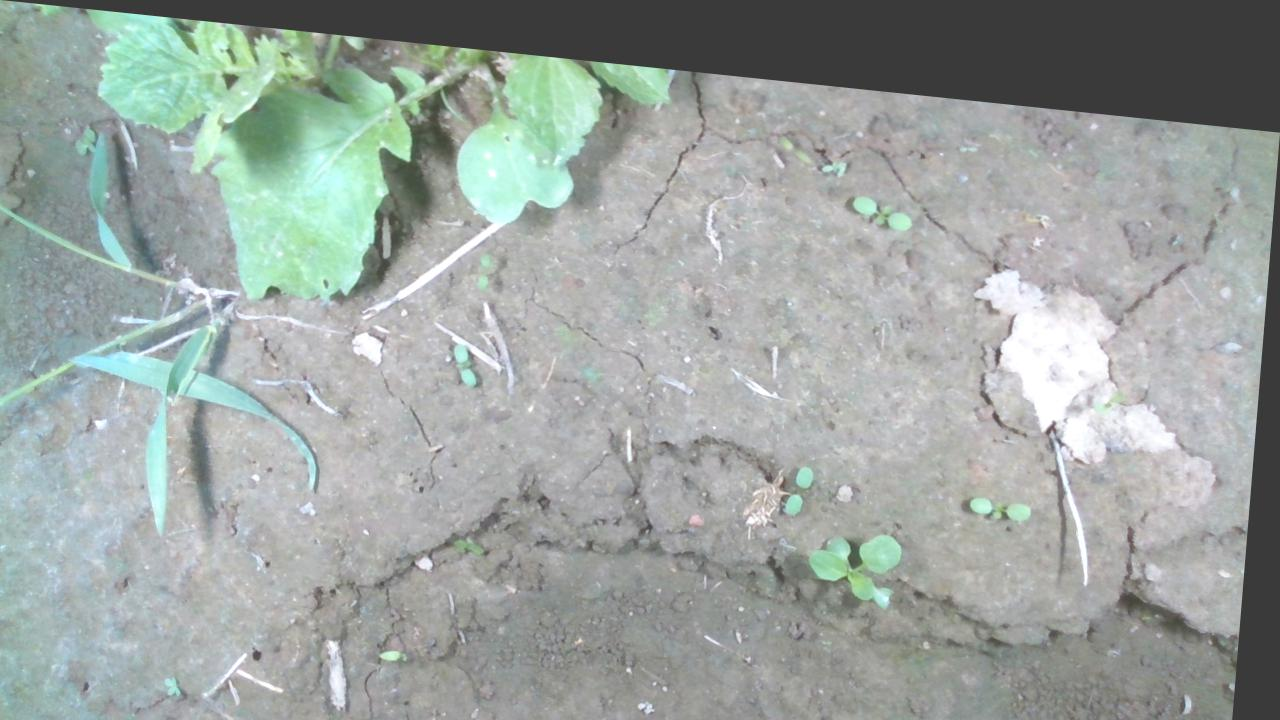weed: (789, 445, 820, 500)
